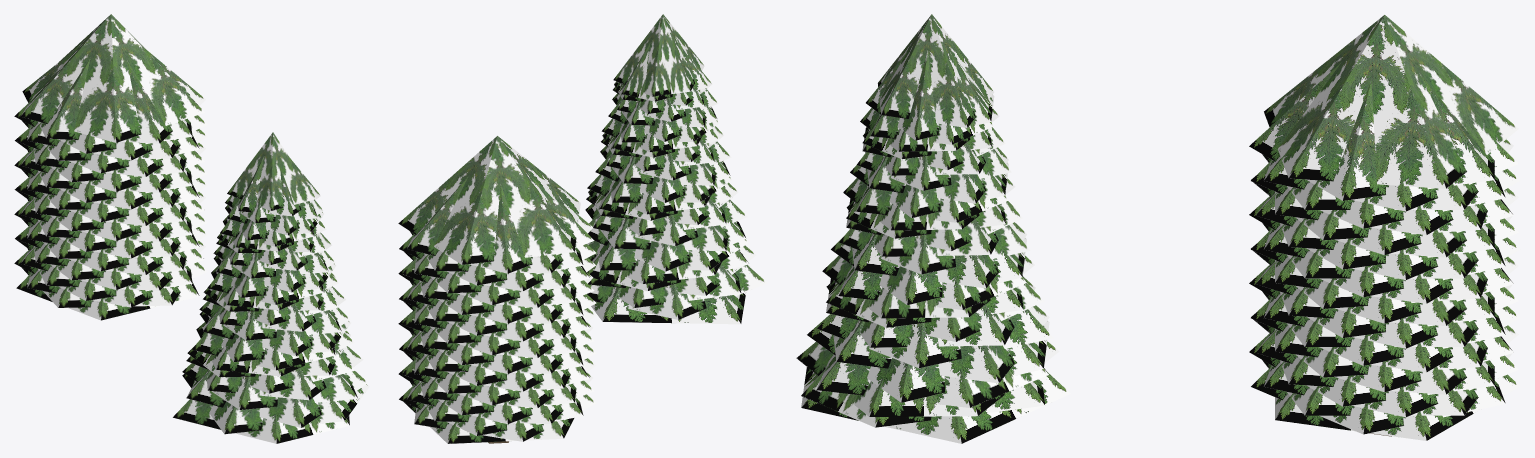
Rendered from trees.glb.
3 renders of one model, left to right at view 1: azimuth 30°, elevation 25°; view 2: azimuth 150°, elevation 25°; view 3: azimuth 270°, elevation 25°, orthographic. The views are drawn at different scales.
Parts seen in each view (by area): view 1: Cone.001, Cone.003; view 2: Cone.001, Cone.003; view 3: Cone.001, Cone.003.
Boxes of the visible parts, x1,y1,x2,y2 form: Cone.001: [14, 14, 207, 320]; Cone.003: [173, 132, 369, 443]; Cone.001: [398, 136, 596, 443]; Cone.003: [585, 14, 767, 324]; Cone.001: [1249, 15, 1520, 440]; Cone.003: [796, 14, 1070, 443].
Bounding box in the file's own units: 6.15 × 10.07 × 15.99.
Materials: 4 (4 with a texture image).
